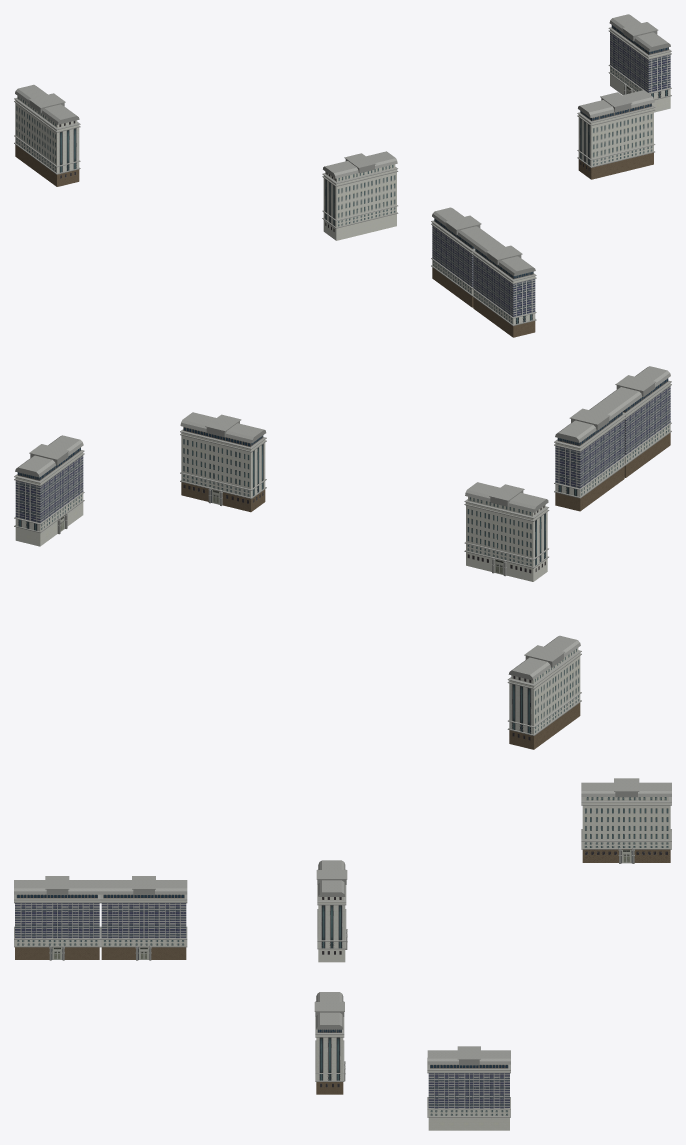
Rendered from Re_Invent_track_building_city_01.dae.
3 views of the same model, one above another, from view 1: azimuth 30°, elevation 25°; view 2: azimuth 150°, elevation 25°; view 3: azimuth 270°, elevation 25° (orthographic). The views are drawn at different scales.
Visible parts, largest first — view 1: building_city_01_01, building_city_01_02, building_city_01_03, building_city_01_05, building_city_01_04; view 2: building_city_01_01, building_city_01_02, building_city_01_03, building_city_01_05, building_city_01_04; view 3: building_city_01_01, building_city_01_05, building_city_01_04, building_city_01_03, building_city_01_02.
Boxes of the visible parts, bbox=[...] form: building_city_01_01: bbox=[431, 207, 536, 337]; building_city_01_02: bbox=[577, 90, 655, 179]; building_city_01_03: bbox=[322, 151, 398, 240]; building_city_01_05: bbox=[14, 84, 80, 186]; building_city_01_04: bbox=[608, 14, 671, 112]; building_city_01_01: bbox=[554, 366, 671, 511]; building_city_01_02: bbox=[180, 412, 266, 512]; building_city_01_03: bbox=[464, 482, 549, 581]; building_city_01_05: bbox=[507, 635, 581, 749]; building_city_01_04: bbox=[14, 435, 84, 546]; building_city_01_01: bbox=[14, 876, 187, 960]; building_city_01_05: bbox=[581, 778, 671, 863]; building_city_01_04: bbox=[427, 1046, 510, 1130]; building_city_01_03: bbox=[316, 860, 347, 962]; building_city_01_02: bbox=[314, 992, 345, 1094].
Size of the model in its own units: 26.12 by 25.91 by 3.15.
6 materials, 6 textured.
